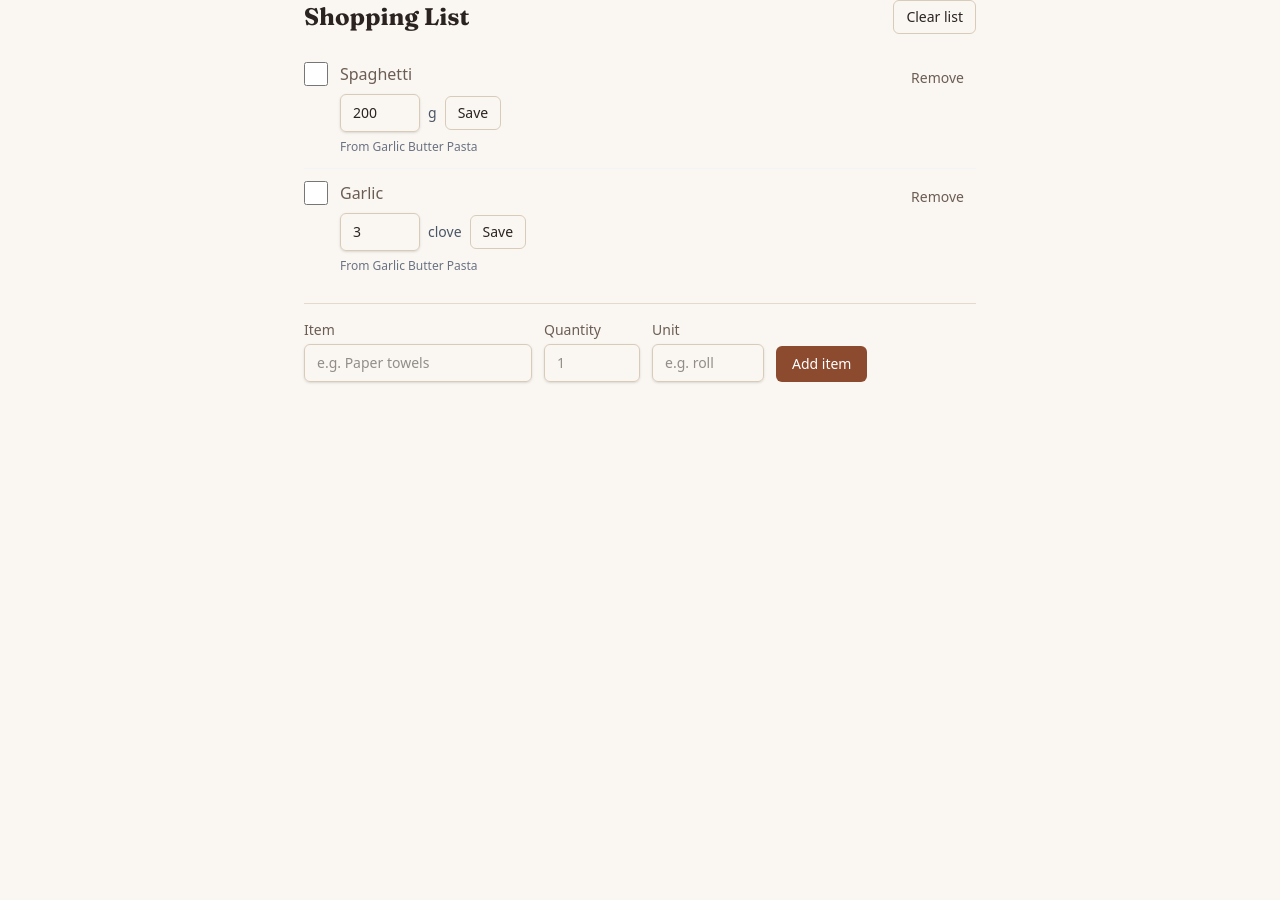
Test: ShoppingList (against the typed mock) › clearing the list (AC4, AC5, AC6) › asks for confirmation before clearing, stating what will be lost
Expected: the checkbox labelled "Spaghetti" is shown, x1=304 y1=62 x2=328 y2=86
Click the button "Clear list" at (935, 17), box x1=893 y1=0 x2=976 y2=34
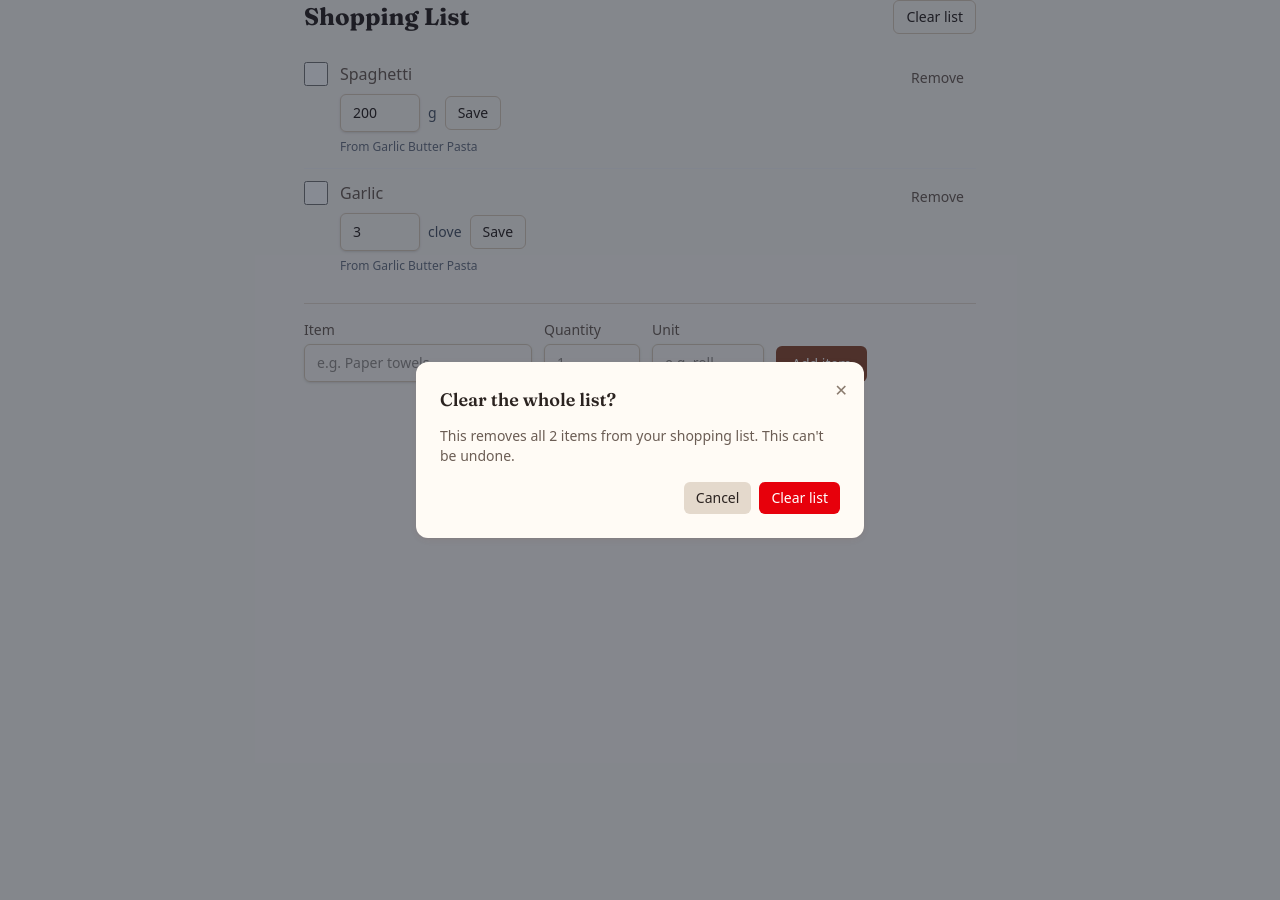
Expected: the dialog "Clear the whole list?" shows "2 items", x1=416 y1=362 x2=864 y2=538
